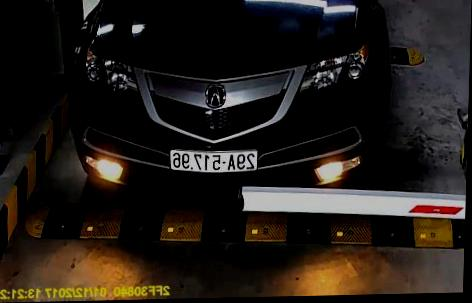License_Plate: (169, 145, 260, 176)
